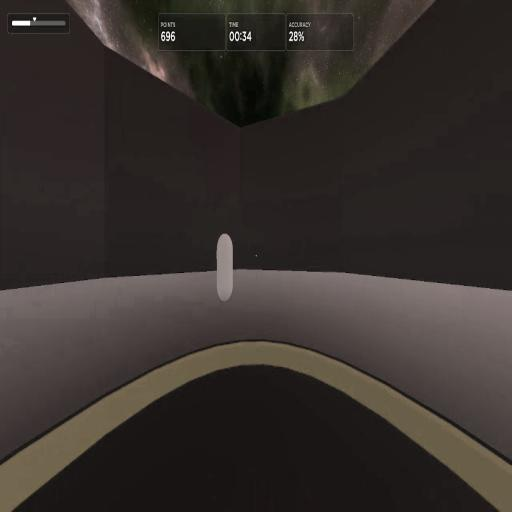Crosshair: (256, 254, 258, 258)
Target: (216, 233, 233, 302)
